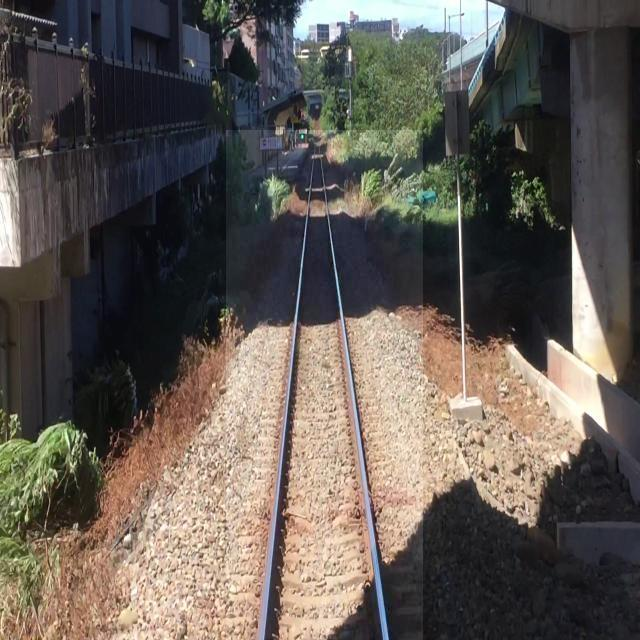rail: (227, 131, 424, 640)
